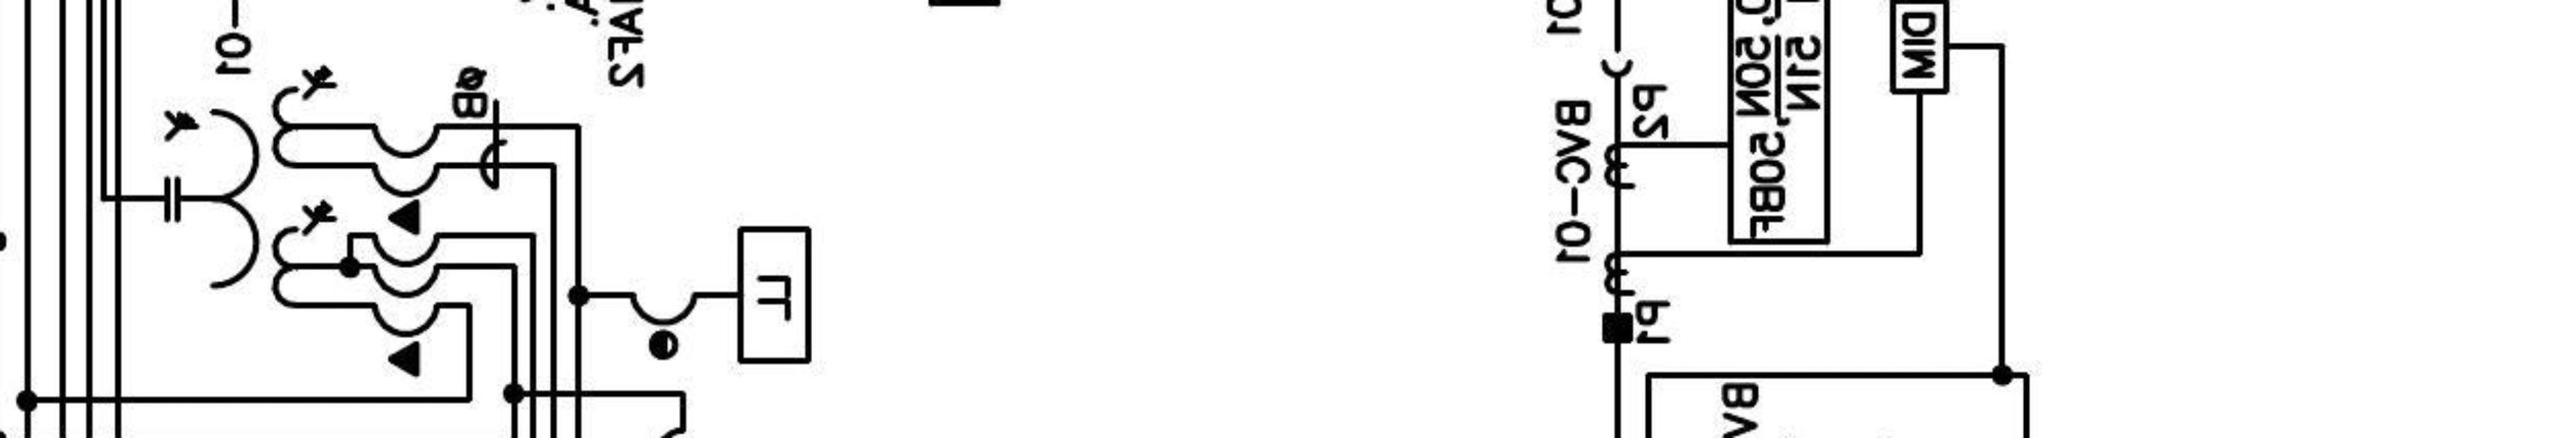115_cvt_3p: (163, 63, 338, 310)
LL: (736, 226, 813, 364)
